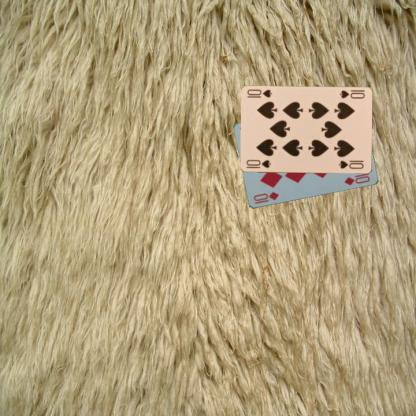10d: (251, 189, 280, 205)
10s: (243, 157, 272, 169), (337, 88, 366, 100)
